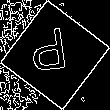P_S: (33, 27, 77, 83)
